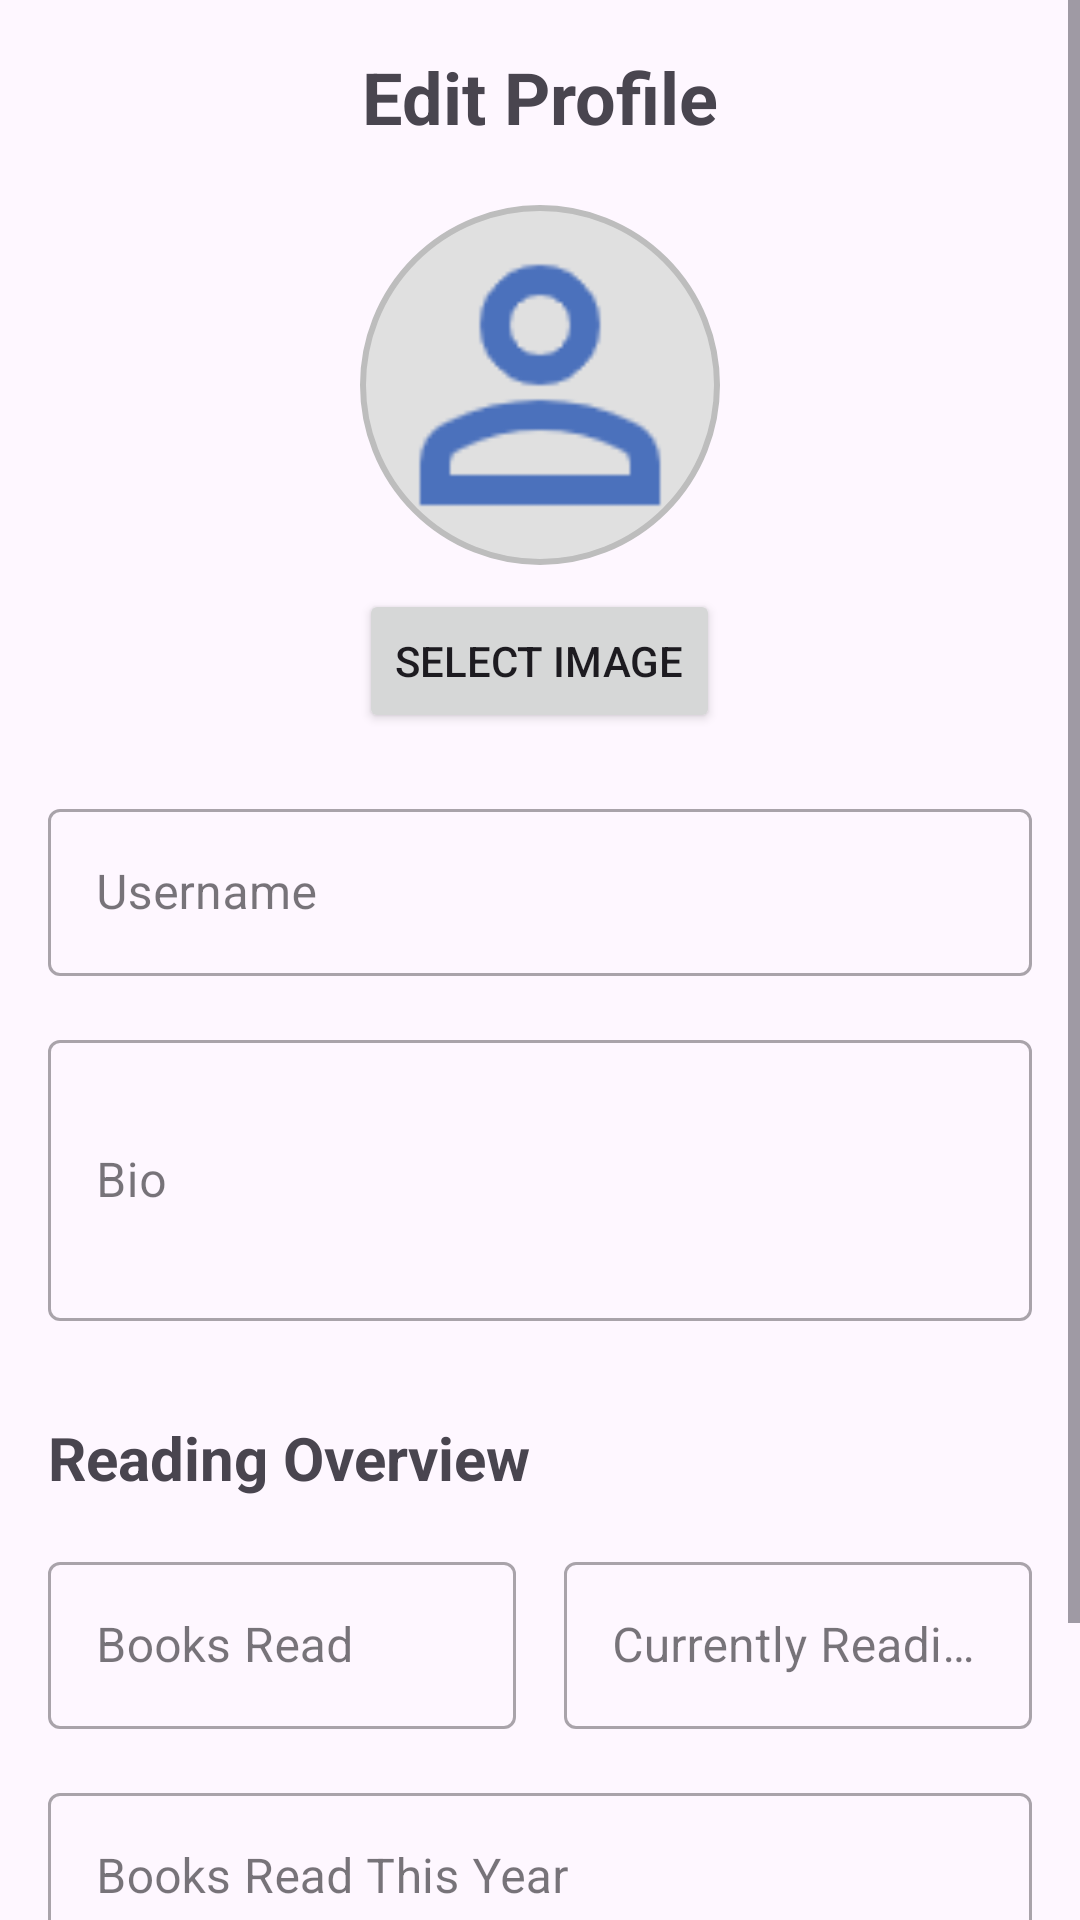

Screen size 1080 x 1920. Icon name, then its center in pixels as (x,y):
person: (540,385)
